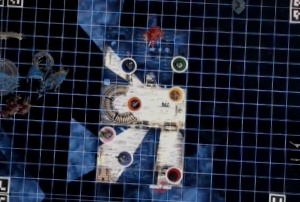blue: (121, 56, 138, 75)
green: (169, 53, 189, 75)
orange: (126, 95, 144, 111)
pink: (97, 123, 119, 145)
red: (163, 165, 183, 184)
violet: (116, 149, 134, 165)
yellow: (169, 84, 185, 101)
